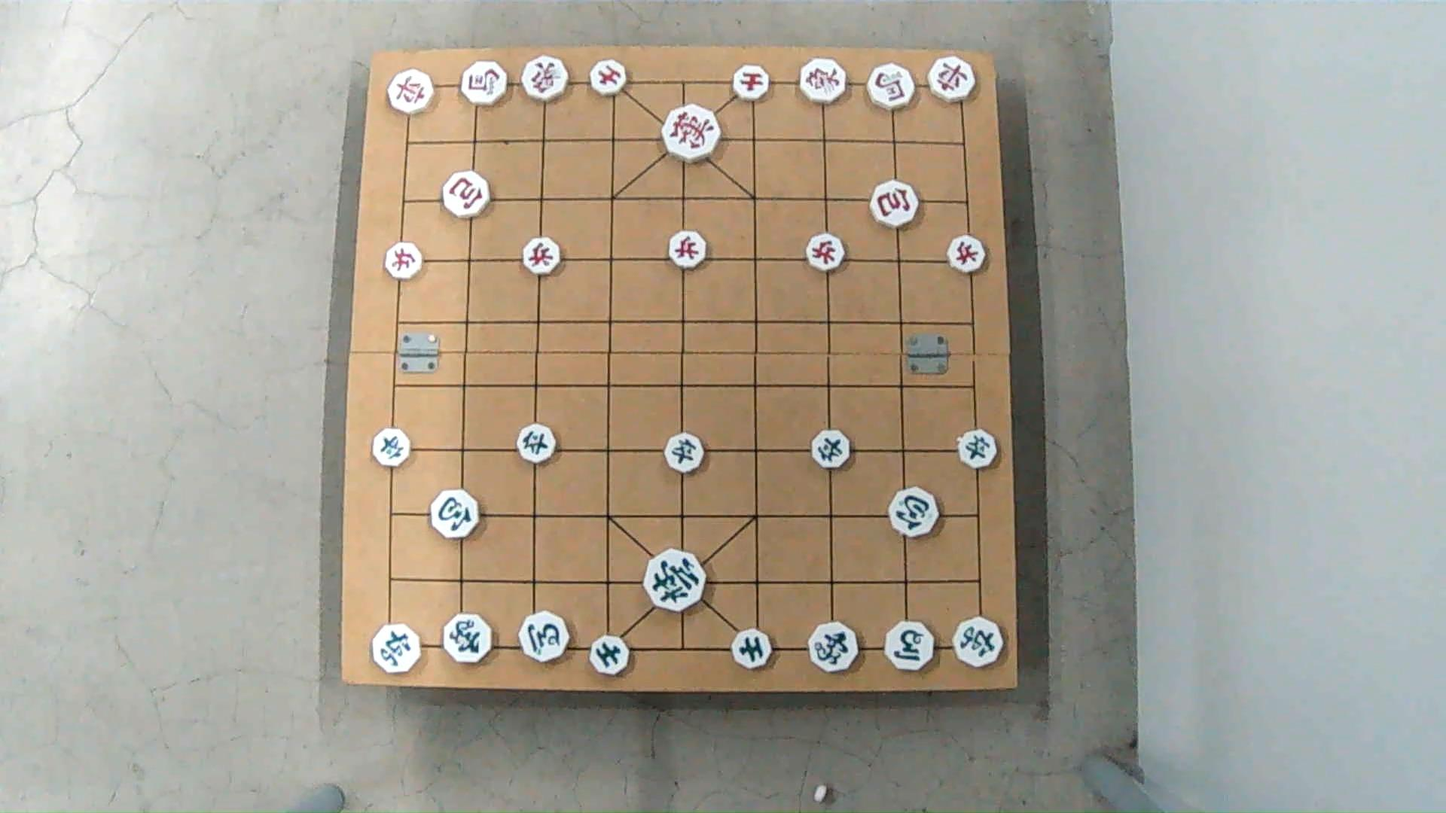cha_green: (950, 619, 1005, 668), (371, 625, 421, 674)
cha_red: (928, 56, 977, 99), (389, 70, 435, 112)
jol_green: (667, 435, 706, 473), (519, 427, 559, 464), (956, 431, 996, 468), (810, 431, 849, 468), (374, 431, 413, 467)
jol_red: (523, 239, 563, 276), (947, 239, 989, 274), (670, 231, 710, 267), (805, 236, 845, 272), (385, 245, 424, 281)
ma_green: (520, 611, 569, 665), (883, 621, 935, 669)
ma_red: (866, 65, 917, 108), (462, 65, 508, 105)
po_green: (432, 489, 482, 540), (888, 488, 938, 534)
po_red: (868, 183, 918, 228), (444, 173, 491, 215)
sa_green: (734, 629, 772, 670), (590, 636, 631, 673)
sa_red: (731, 66, 770, 100), (588, 61, 627, 95)
sang_green: (442, 611, 495, 664), (809, 622, 861, 676)
sang_red: (521, 56, 569, 102), (797, 59, 847, 101)
wang_green: (645, 553, 704, 611)
wang_red: (664, 108, 722, 161)
